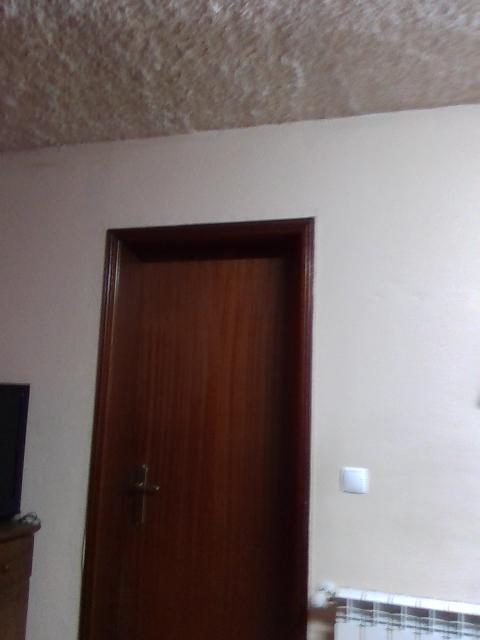door: (111, 244, 297, 639)
